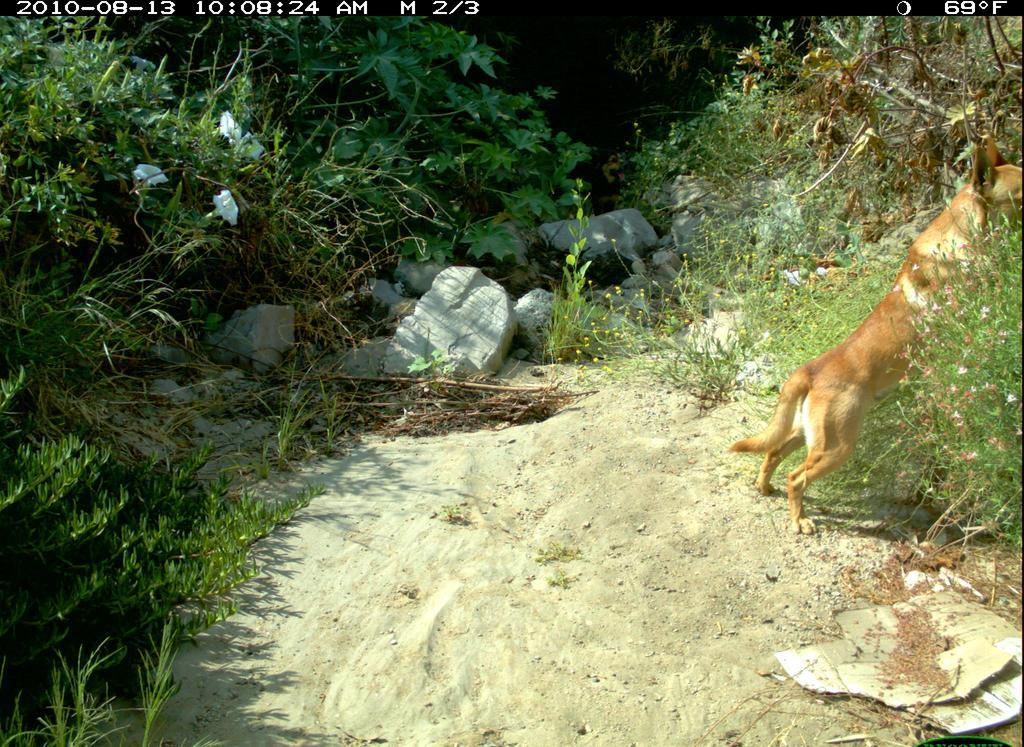dog: (731, 131, 1024, 543)
